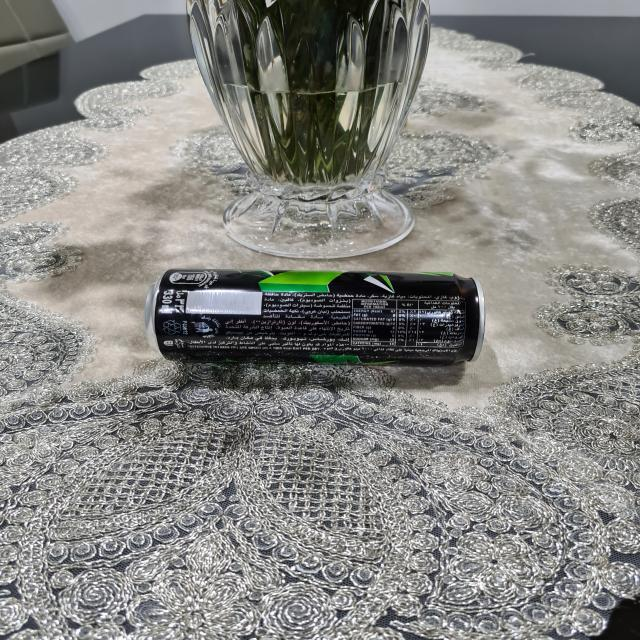can: (147, 266, 500, 370)
